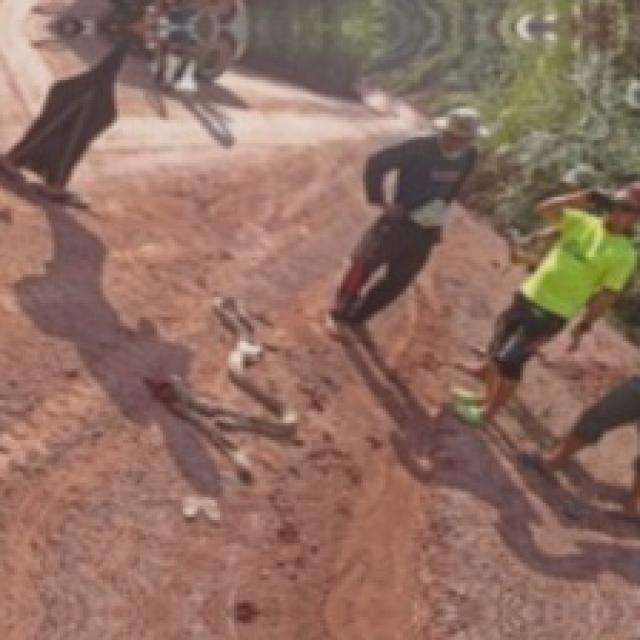king cobra: (51, 0, 246, 143)
